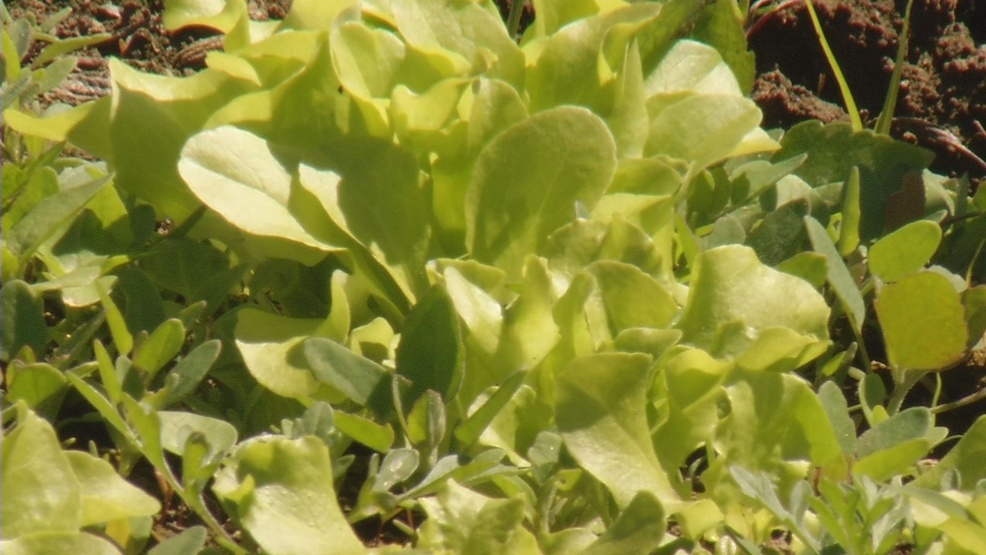chopped lettuce: (275, 105, 735, 490)
